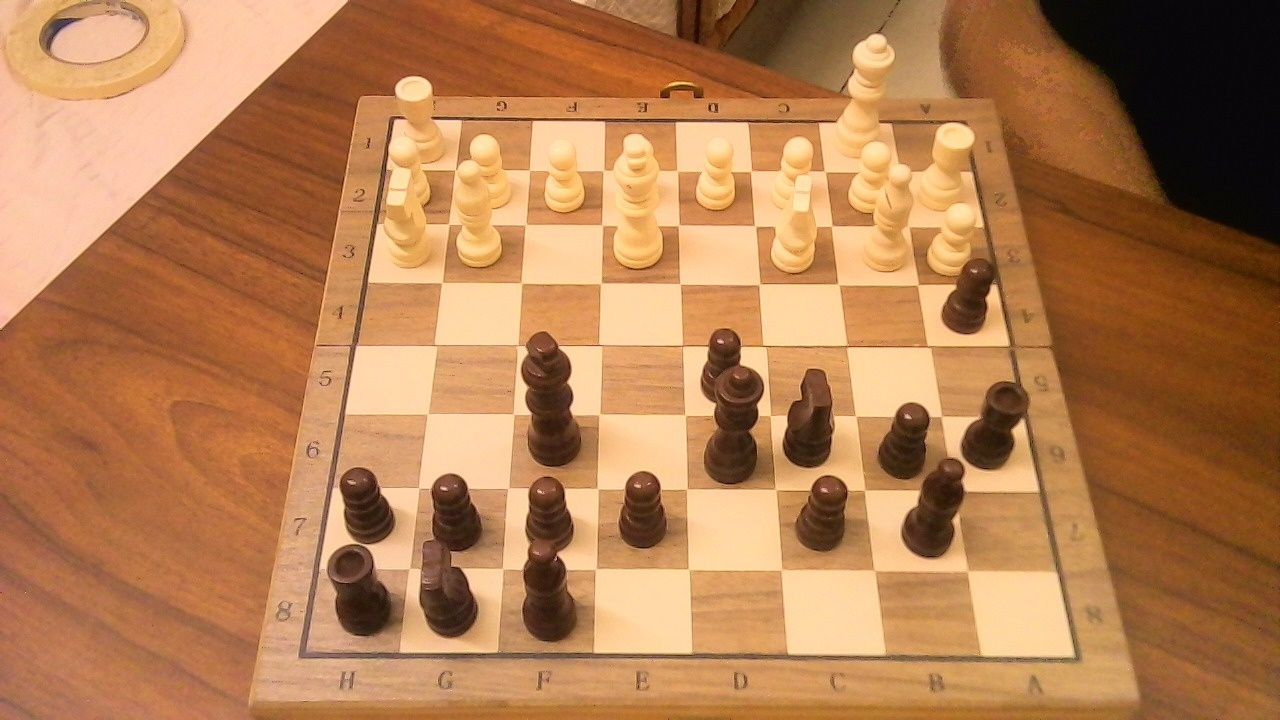B: (855, 154, 923, 277), (449, 148, 513, 271)
K: (606, 124, 674, 272)
N: (763, 163, 830, 278), (373, 190, 438, 274)
P: (841, 132, 904, 219), (458, 125, 518, 213), (923, 193, 985, 278), (763, 128, 822, 215), (535, 129, 591, 217), (688, 128, 744, 215), (384, 127, 437, 212)
Q: (830, 21, 900, 164)
R: (917, 112, 984, 212), (390, 67, 451, 167)
b: (510, 540, 590, 648), (920, 445, 979, 564)
k: (516, 320, 594, 469)
n: (411, 526, 488, 642), (780, 354, 848, 470)
p: (421, 462, 494, 552), (331, 456, 405, 544), (936, 247, 1006, 338), (693, 320, 754, 404), (880, 400, 942, 480), (618, 470, 668, 550), (536, 471, 584, 552), (803, 475, 853, 550)
q: (695, 352, 775, 487)
r: (324, 533, 401, 638), (965, 369, 1038, 472)
